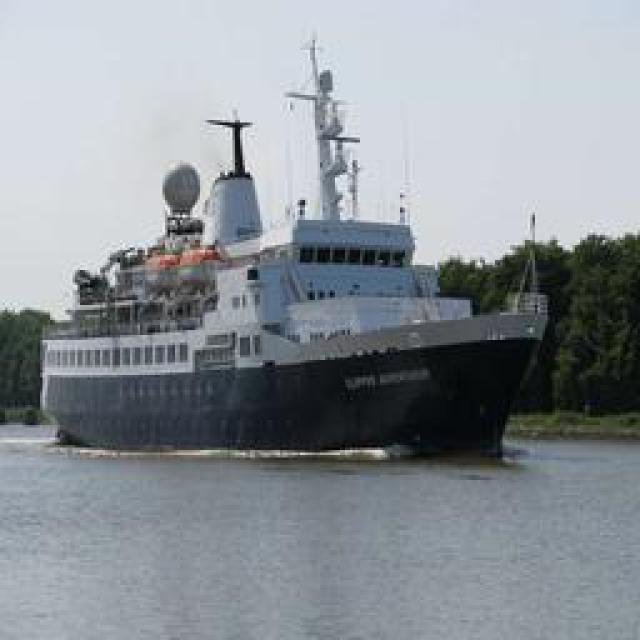Ship: (44, 25, 564, 450)
